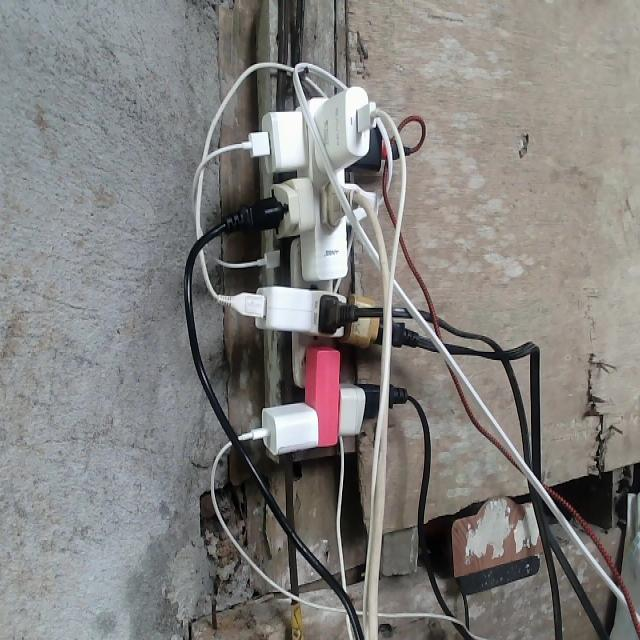-: (235, 77, 416, 459)
